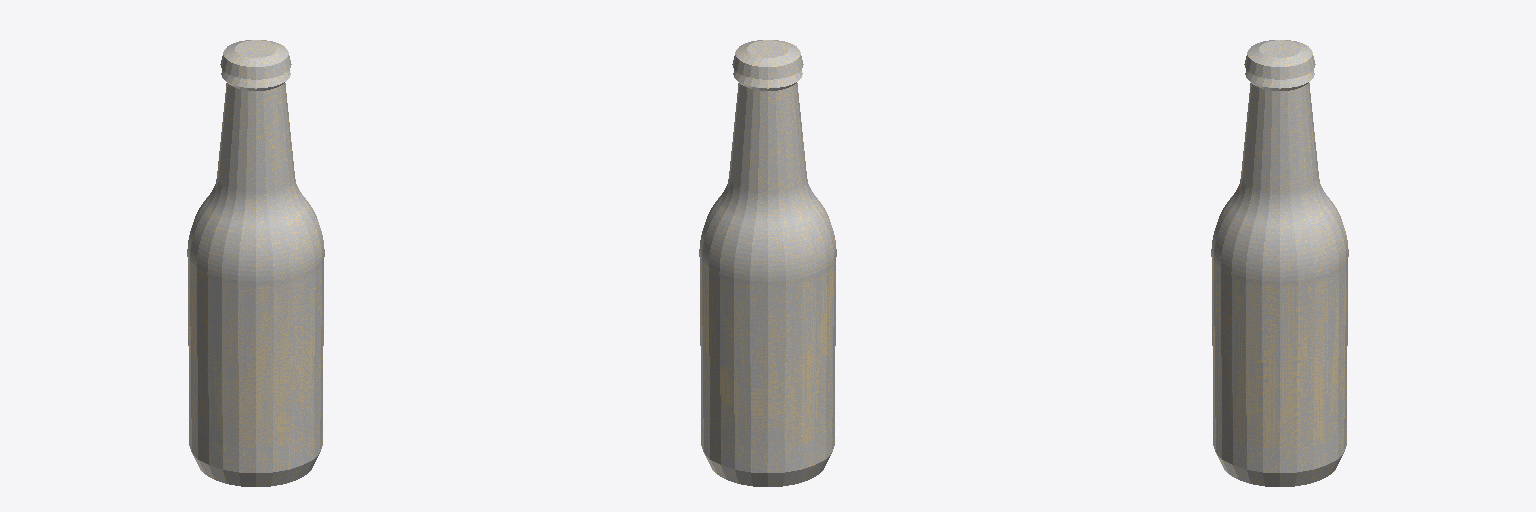
The model's file is drinkable4.obj.
The picture shows the model from 3 angles: view 1: azimuth 30°, elevation 25°; view 2: azimuth 150°, elevation 25°; view 3: azimuth 270°, elevation 25°; orthographic projection.
Visible parts, largest first — view 1: instance_0.002, instance_0, instance_0.001; view 2: instance_0.002, instance_0, instance_0.001; view 3: instance_0.002, instance_0, instance_0.001.
Boxes of the visible parts, x1,y1,x2,y2 form: instance_0.002: [187, 83, 324, 486]; instance_0: [220, 40, 291, 79]; instance_0.001: [221, 70, 290, 90]; instance_0.002: [699, 83, 836, 486]; instance_0: [732, 40, 803, 79]; instance_0.001: [733, 70, 802, 90]; instance_0.002: [1211, 83, 1348, 486]; instance_0: [1244, 40, 1315, 79]; instance_0.001: [1245, 70, 1314, 90].
Bounding box in the file's own units: 0.0698 × 0.2323 × 0.0698.